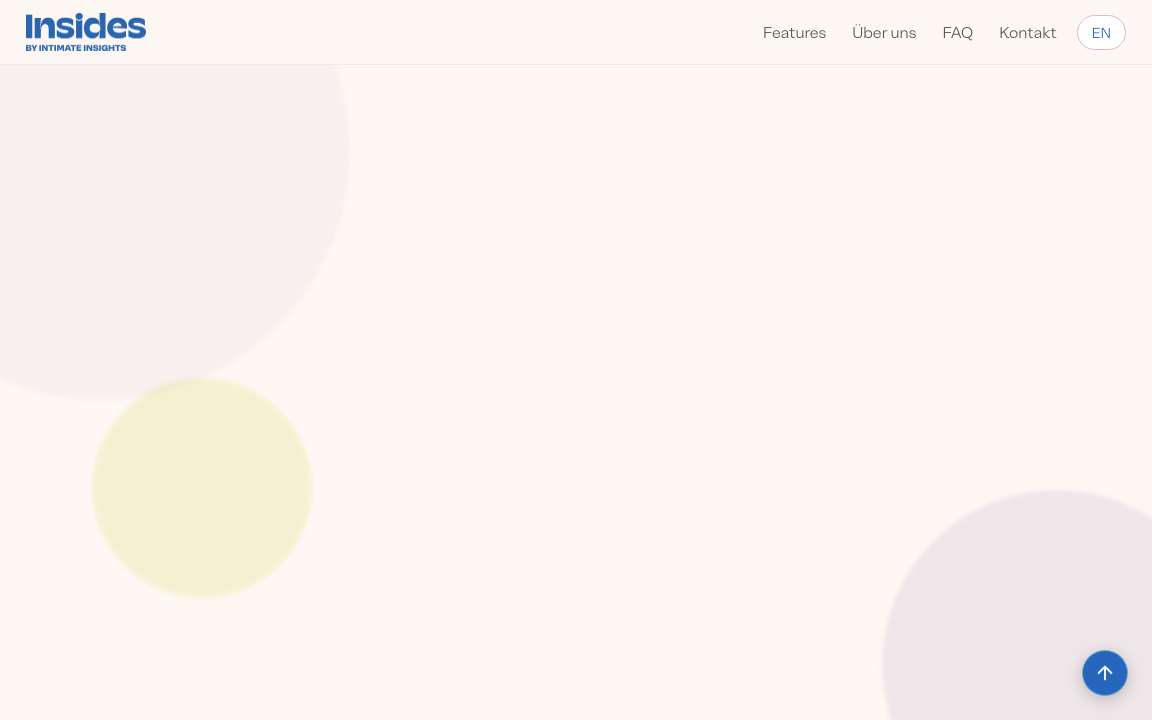
Scenario: shows survey responses in the selected language
This screenshot has width=1152, height=720.
Click the button "EN".
click(1101, 32)  # box [1077,14,1126,50]
(page scrolled)
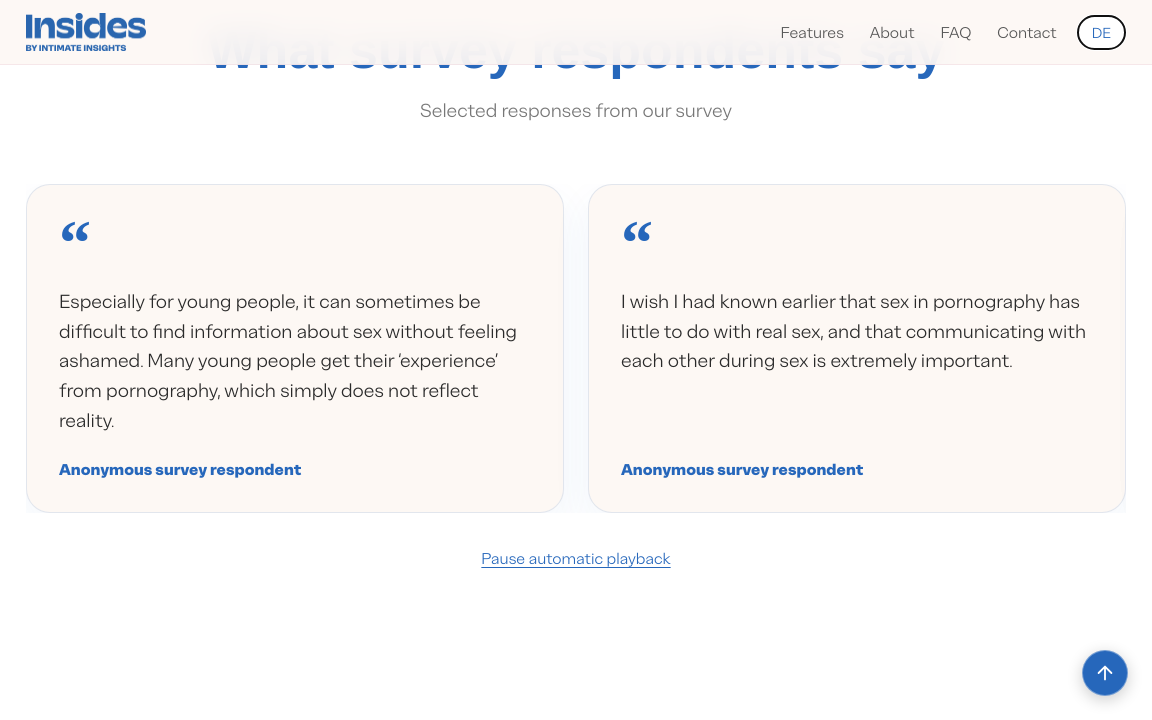
Expected: the heading "What survey respondents say" is shown, [208,21,944,79]
Expected: the text "Especially for young people, it can sometimes be difficult to find information about sex without feeling ashamed. Many y" is shown, [59,288,517,432]
